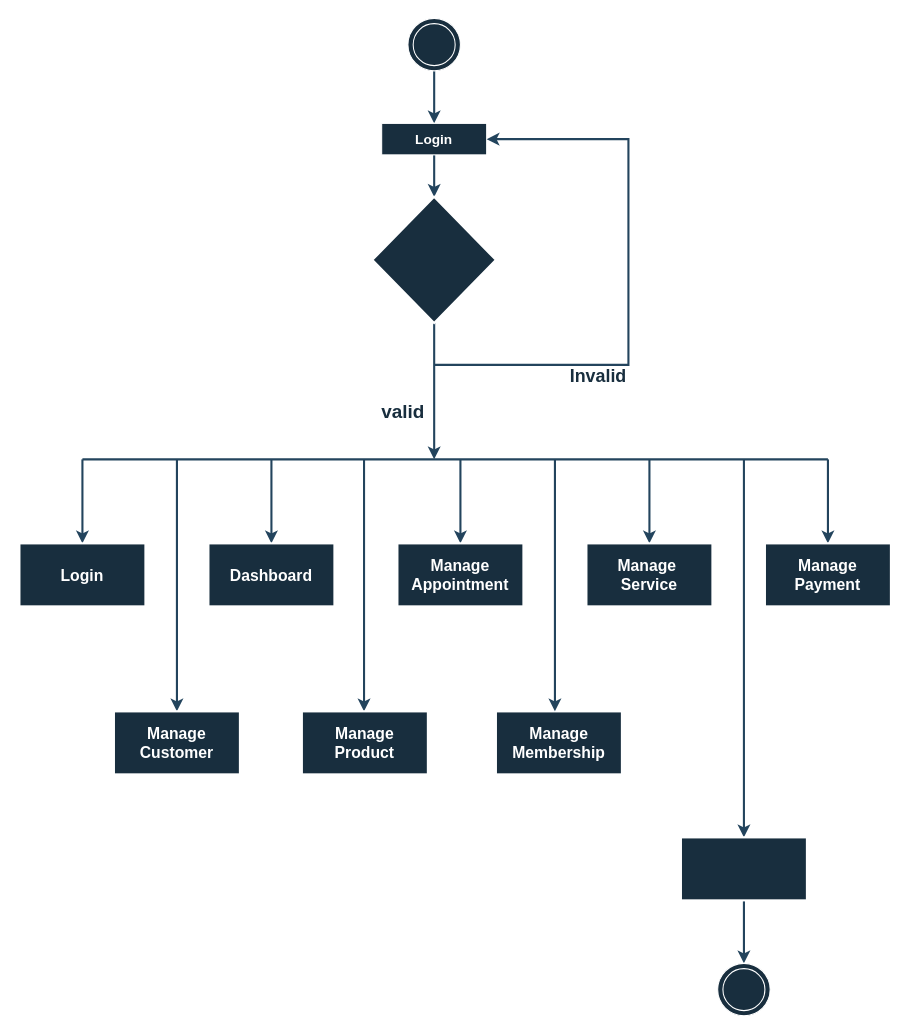
Image size: 909x1034. Some labels were removed from this diagram. The centre of each missing label's shape, as x and y in pixels:
"Check Username & Password" belongs at pixel 433 259.
"Logout" belongs at pixel 743 868.
